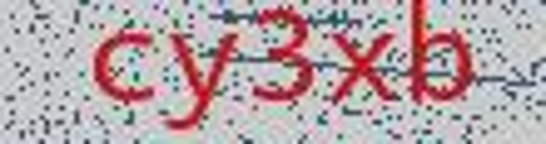3: (249, 6, 318, 115)
b: (404, 1, 477, 114)
c: (88, 26, 161, 113)
x: (325, 28, 403, 114)
y: (164, 25, 245, 139)
